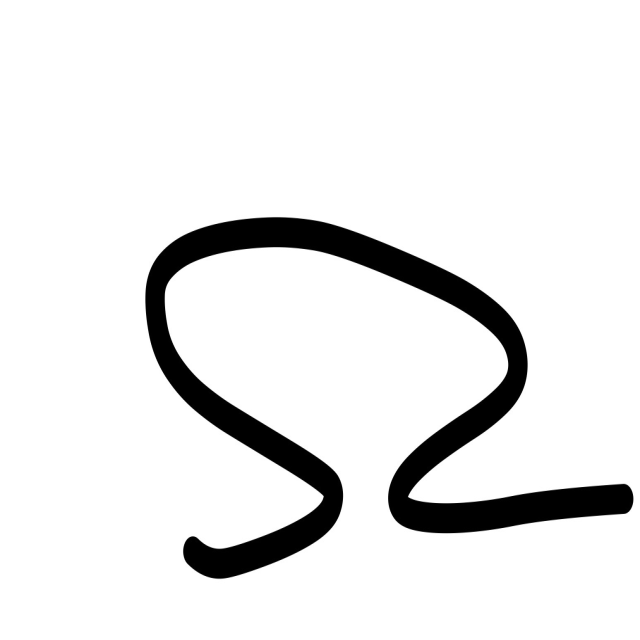ohms: (59, 150, 638, 612)
